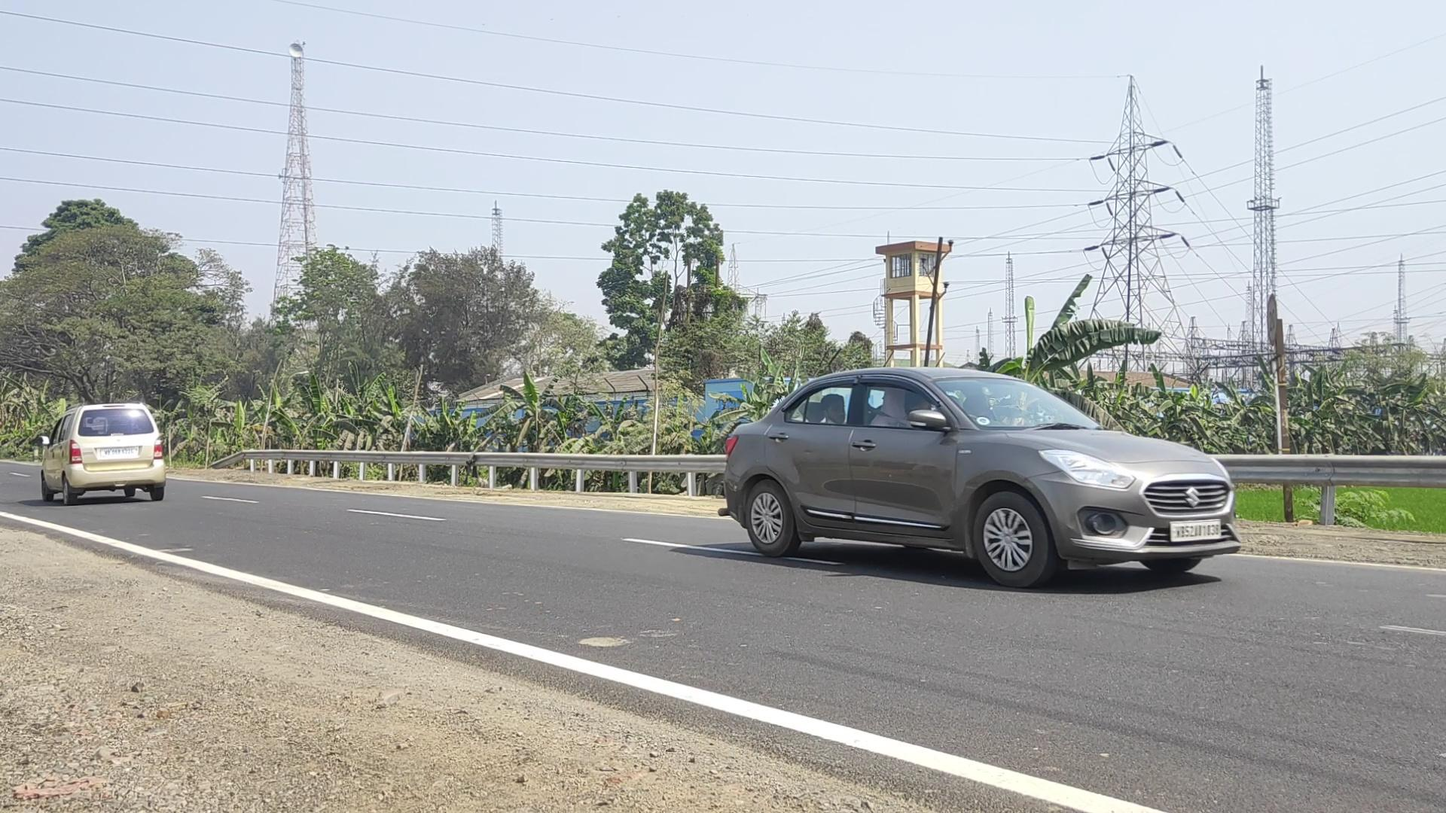car: (718, 366, 1242, 589), (38, 402, 166, 506)
